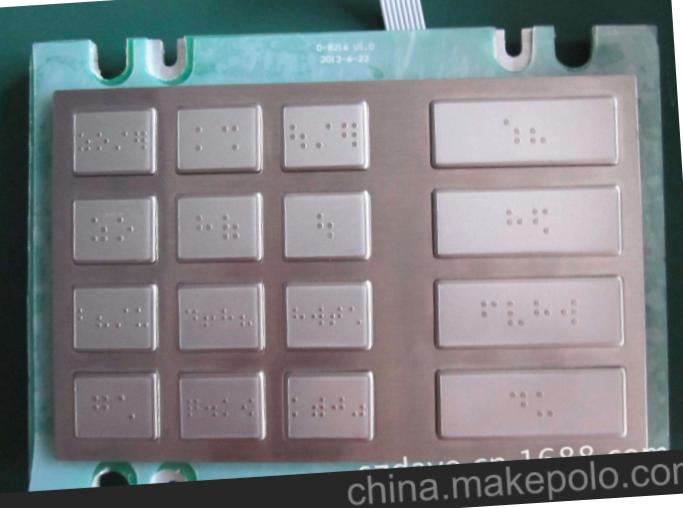Braille: (531, 209, 551, 236), (559, 299, 579, 326), (222, 213, 241, 241), (508, 391, 527, 419), (194, 214, 214, 240), (506, 300, 526, 326), (532, 300, 552, 326), (535, 391, 555, 417), (502, 118, 521, 145), (118, 394, 137, 421), (316, 212, 334, 240), (222, 125, 241, 151), (528, 118, 547, 144), (90, 216, 109, 242), (480, 301, 499, 327), (289, 123, 307, 150), (505, 208, 523, 235), (315, 123, 333, 149), (341, 122, 359, 148), (116, 216, 134, 242), (195, 125, 211, 153), (92, 394, 109, 420), (96, 130, 111, 154), (348, 304, 363, 327), (351, 396, 367, 417), (330, 396, 345, 418), (136, 306, 149, 331), (115, 307, 129, 330), (240, 397, 255, 418), (291, 396, 306, 417), (311, 397, 325, 419), (222, 397, 236, 418), (292, 306, 306, 327), (330, 305, 344, 326), (205, 397, 218, 419), (115, 130, 129, 150), (134, 131, 148, 151), (96, 308, 110, 328), (186, 397, 200, 417), (311, 306, 325, 326), (79, 132, 92, 153), (240, 308, 254, 327), (78, 308, 91, 328), (185, 308, 198, 328), (221, 308, 234, 327), (204, 309, 216, 327)
